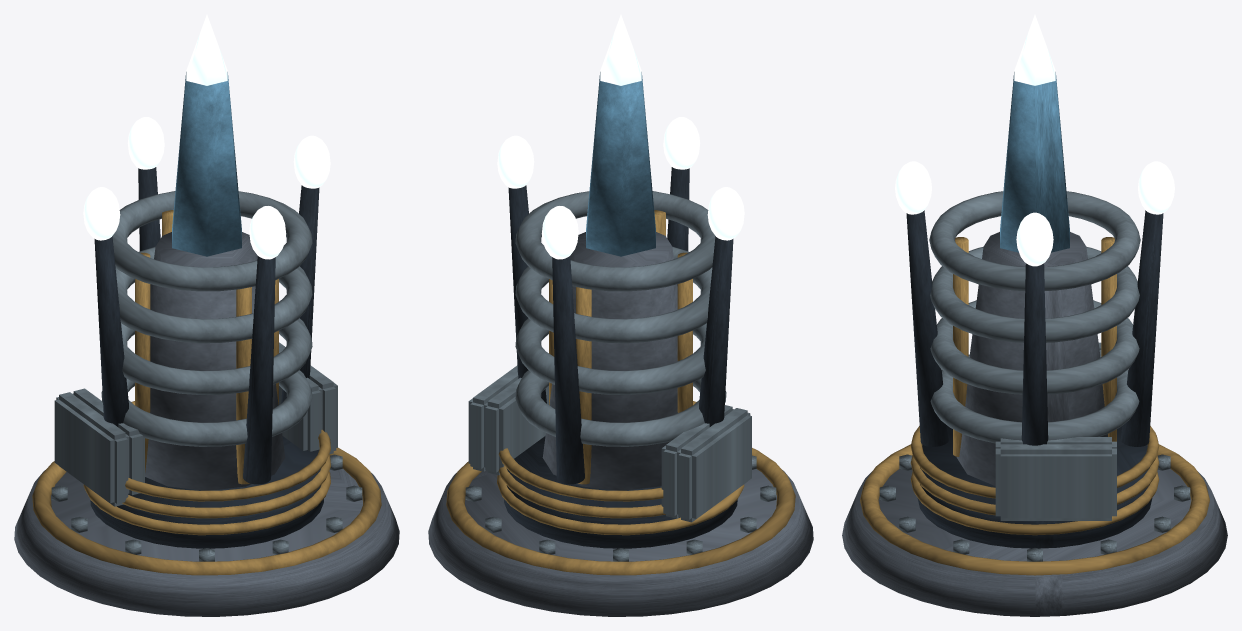
File: tower_slow_3.glb
3 renders of one model, left to right at view 1: azimuth 30°, elevation 25°; view 2: azimuth 150°, elevation 25°; view 3: azimuth 270°, elevation 25°, orthographic.
Visible parts, largest first — view 1: Weathered_granite, Weathered_blue_steel, Antique_brass, Forged_black_iron.001, Blue_glacial_ice, Frost_core, Forged_black_iron; view 2: Weathered_blue_steel, Weathered_granite, Antique_brass, Forged_black_iron.001, Blue_glacial_ice, Frost_core, Forged_black_iron; view 3: Weathered_blue_steel, Weathered_granite, Antique_brass, Forged_black_iron.001, Blue_glacial_ice, Frost_core, Forged_black_iron.
Part boxes in pixels (x1=…): Weathered_granite: x1=14, y1=232, x2=399, y2=616; Weathered_blue_steel: x1=51, y1=191, x2=362, y2=561; Antique_brass: x1=32, y1=210, x2=381, y2=575; Forged_black_iron.001: x1=94, y1=167, x2=319, y2=484; Blue_glacial_ice: x1=172, y1=72, x2=241, y2=256; Frost_core: x1=83, y1=14, x2=330, y2=259; Forged_black_iron: x1=90, y1=436, x2=323, y2=548; Weathered_blue_steel: x1=465, y1=191, x2=776, y2=561; Weathered_granite: x1=428, y1=232, x2=813, y2=616; Antique_brass: x1=446, y1=210, x2=795, y2=575; Forged_black_iron.001: x1=508, y1=167, x2=733, y2=484; Blue_glacial_ice: x1=586, y1=72, x2=655, y2=256; Frost_core: x1=497, y1=14, x2=744, y2=259; Forged_black_iron: x1=504, y1=436, x2=737, y2=548; Weathered_blue_steel: x1=879, y1=191, x2=1190, y2=561; Weathered_granite: x1=842, y1=232, x2=1227, y2=616; Antique_brass: x1=860, y1=237, x2=1209, y2=575; Forged_black_iron.001: x1=906, y1=210, x2=1163, y2=446; Blue_glacial_ice: x1=1000, y1=72, x2=1069, y2=252; Frost_core: x1=895, y1=14, x2=1174, y2=266; Forged_black_iron: x1=917, y1=426, x2=1152, y2=548.
Size of the model in its own units: 2.7 by 4.03 by 2.7.
6 materials, 5 textured.
